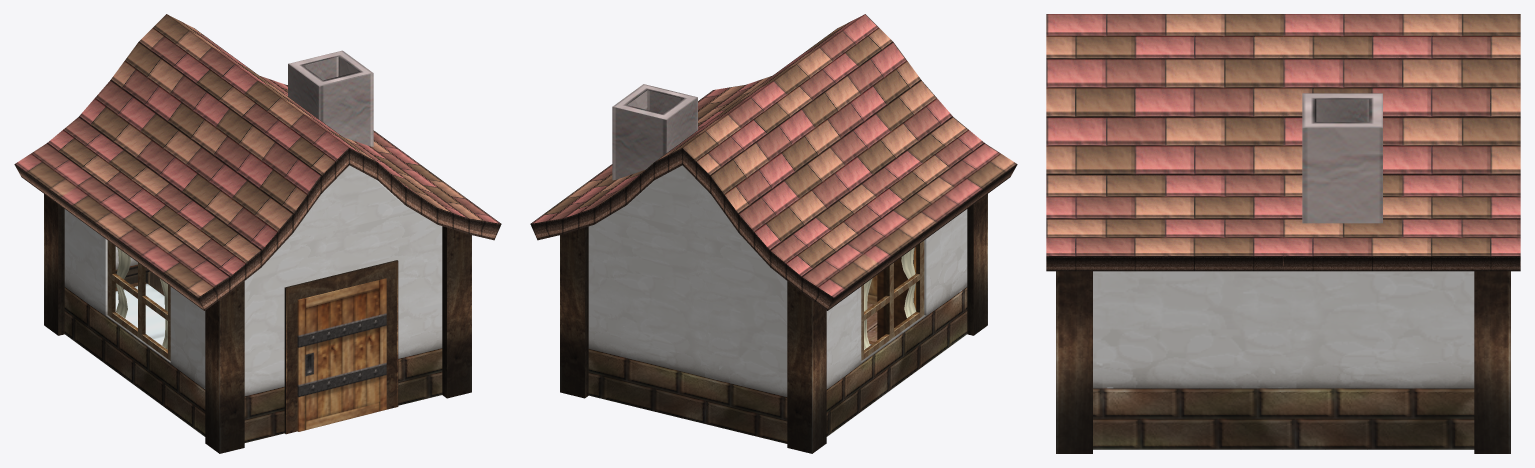
Rendered from M11_house01.fbx.
The picture shows the model from 3 angles, left to right: view 1: azimuth 30°, elevation 25°; view 2: azimuth 150°, elevation 25°; view 3: azimuth 270°, elevation 25°; orthographic projection. The views are drawn at different scales.
Visible parts, largest first — view 1: ceiling, room, door; view 2: room, ceiling; view 3: ceiling, room.
Boxes of the visible parts, x1,y1,x2,y2 form: ceiling: (14,14,501,310); room: (44,165,471,453); door: (297,278,386,431); room: (560,165,987,453); ceiling: (530,14,1017,310); ceiling: (1046,14,1520,271); room: (1056,271,1510,453).
Size of the model in its own units: 40.54 by 35.38 by 42.19.
